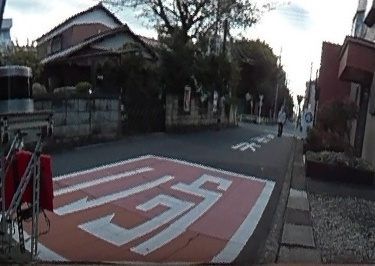person: (274, 102, 286, 137)
